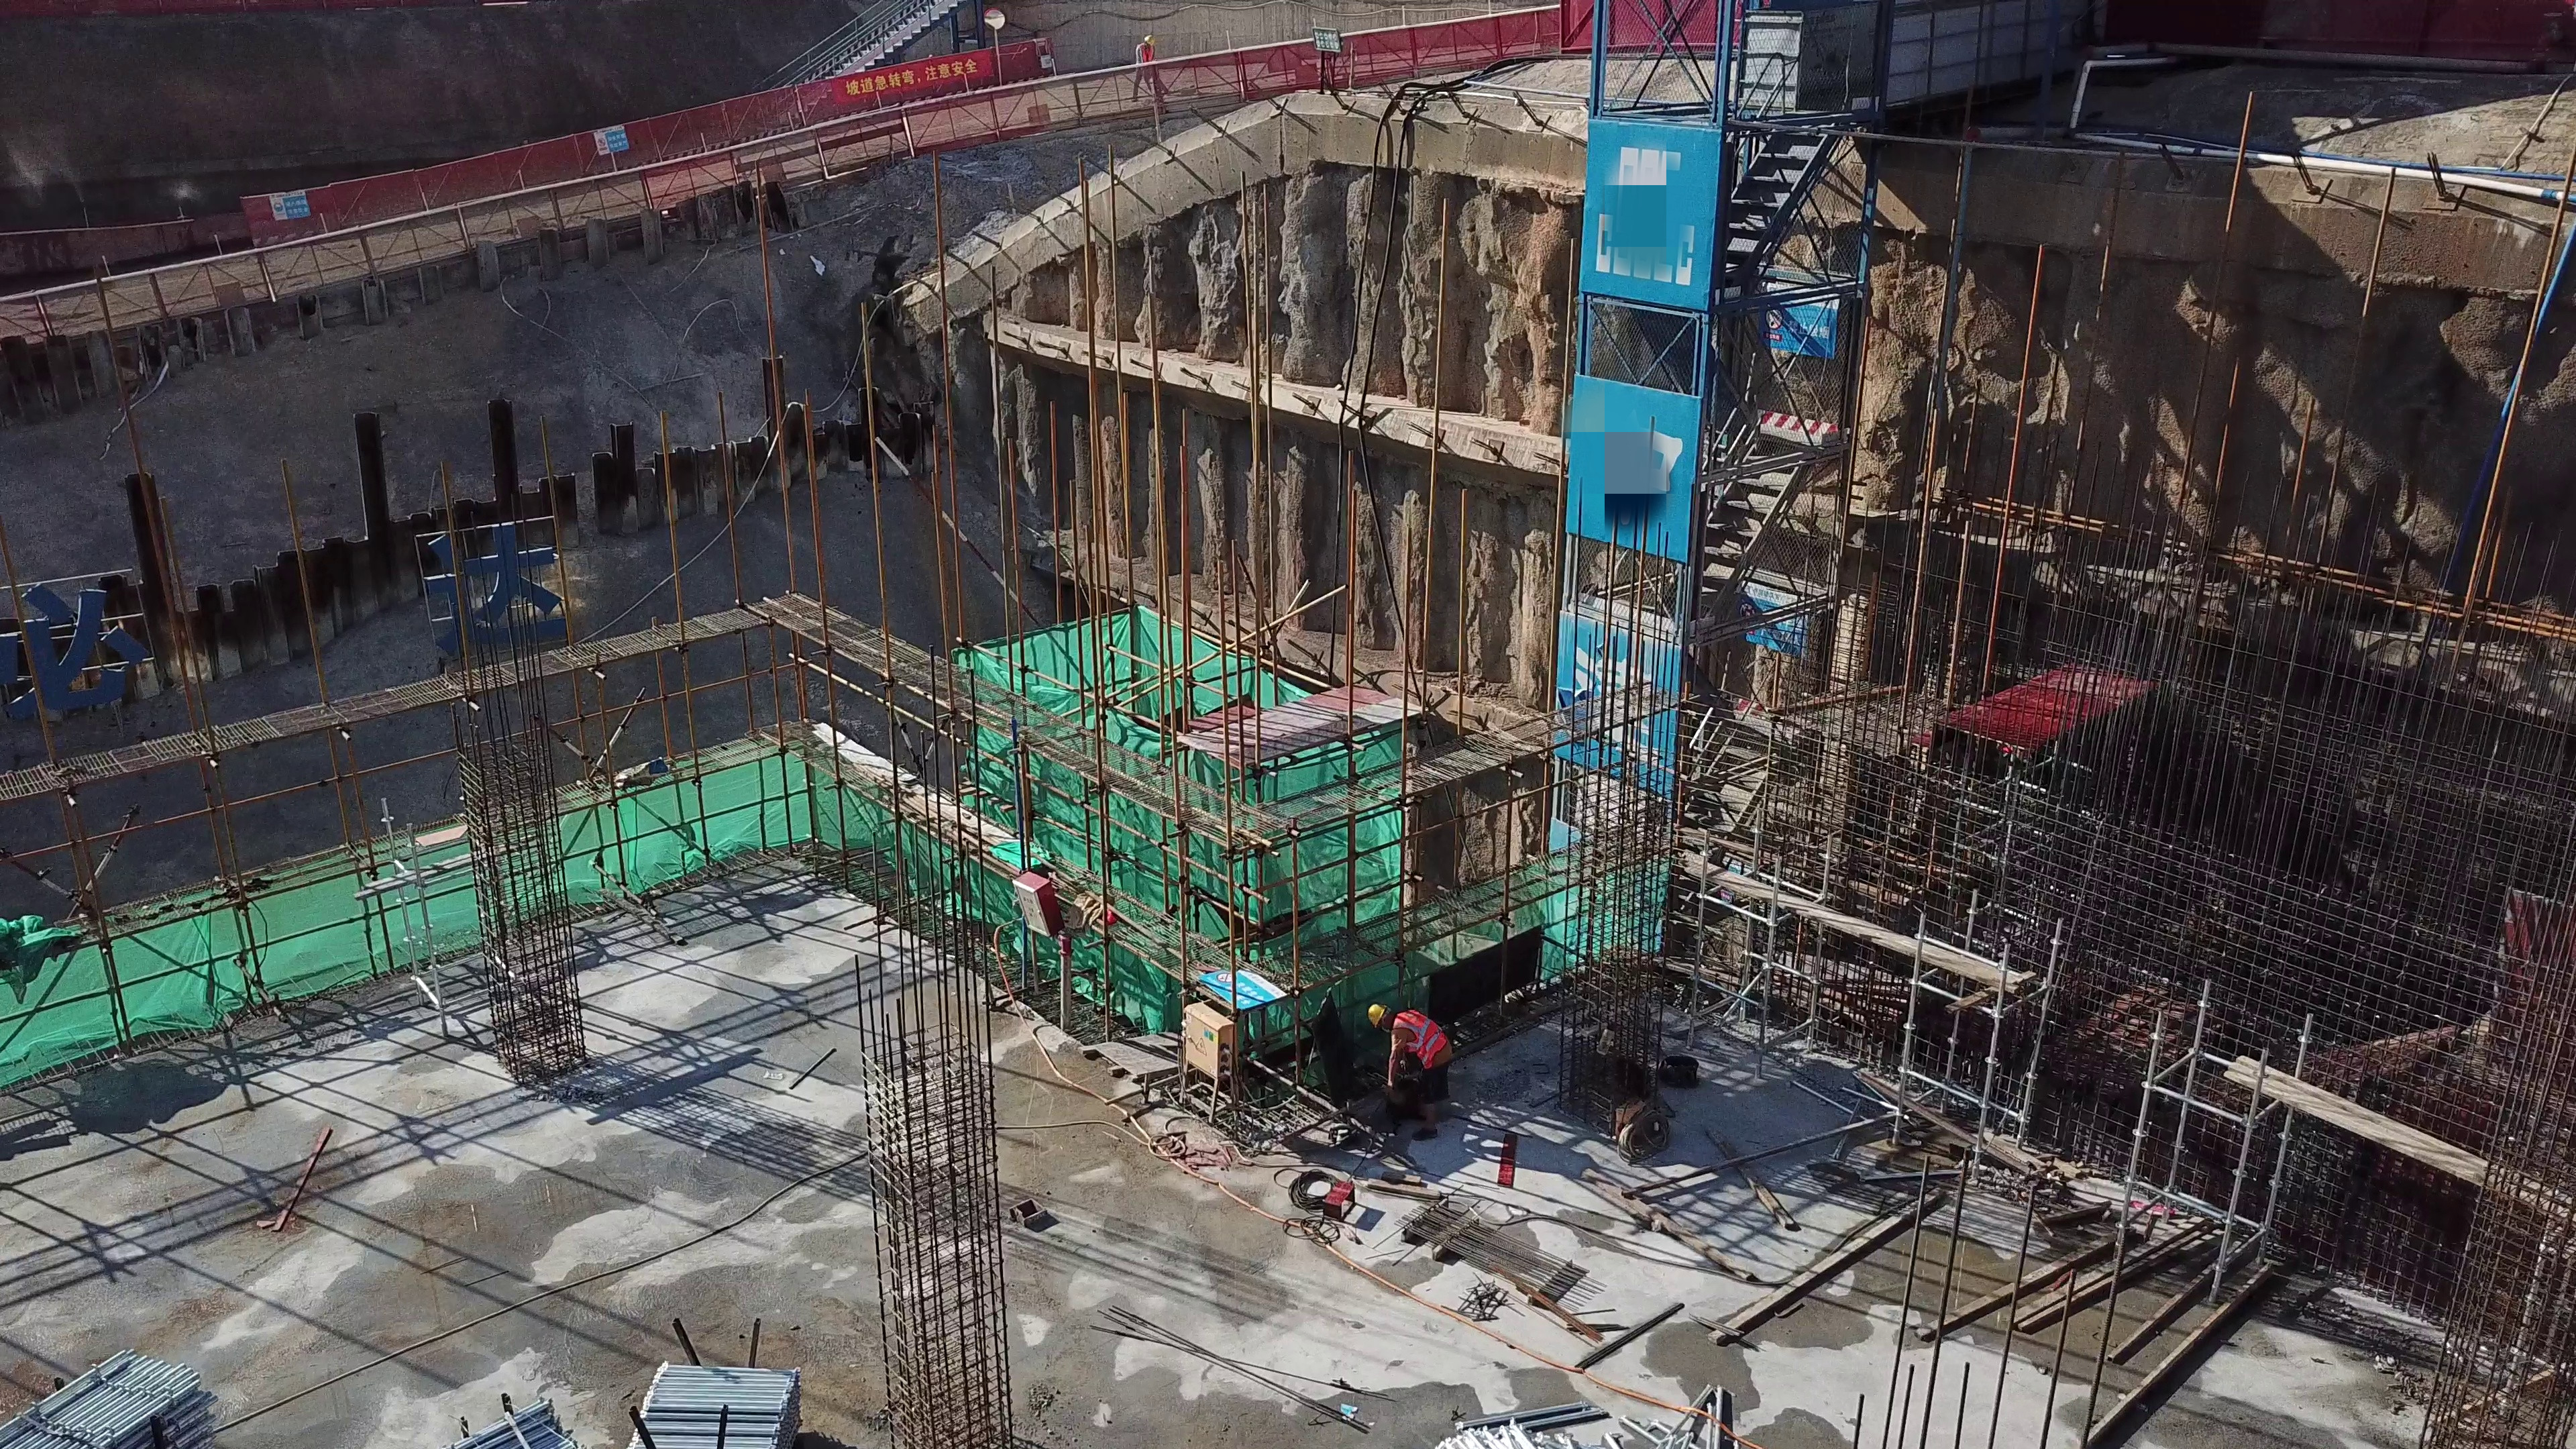ebox: (1178, 1002, 1244, 1118)
fence: (1283, 1, 1693, 85), (535, 97, 804, 212), (807, 54, 1053, 171), (2116, 1, 2569, 62), (245, 160, 528, 234), (213, 227, 433, 297), (6, 280, 201, 338), (1051, 64, 1275, 111)
helmet: (1365, 1003, 1389, 1030), (1141, 33, 1154, 46)
person: (1364, 1000, 1444, 1122), (1125, 32, 1162, 104)
scaffold: (8, 1348, 219, 1443), (620, 1364, 794, 1449), (453, 1397, 579, 1449), (1433, 1399, 1556, 1449)
slogan: (1758, 283, 1843, 346), (845, 56, 979, 95), (1208, 965, 1273, 1008), (264, 190, 315, 221), (594, 121, 628, 150), (1315, 23, 1337, 56)
vest: (1391, 1013, 1442, 1065), (1138, 46, 1153, 63)
